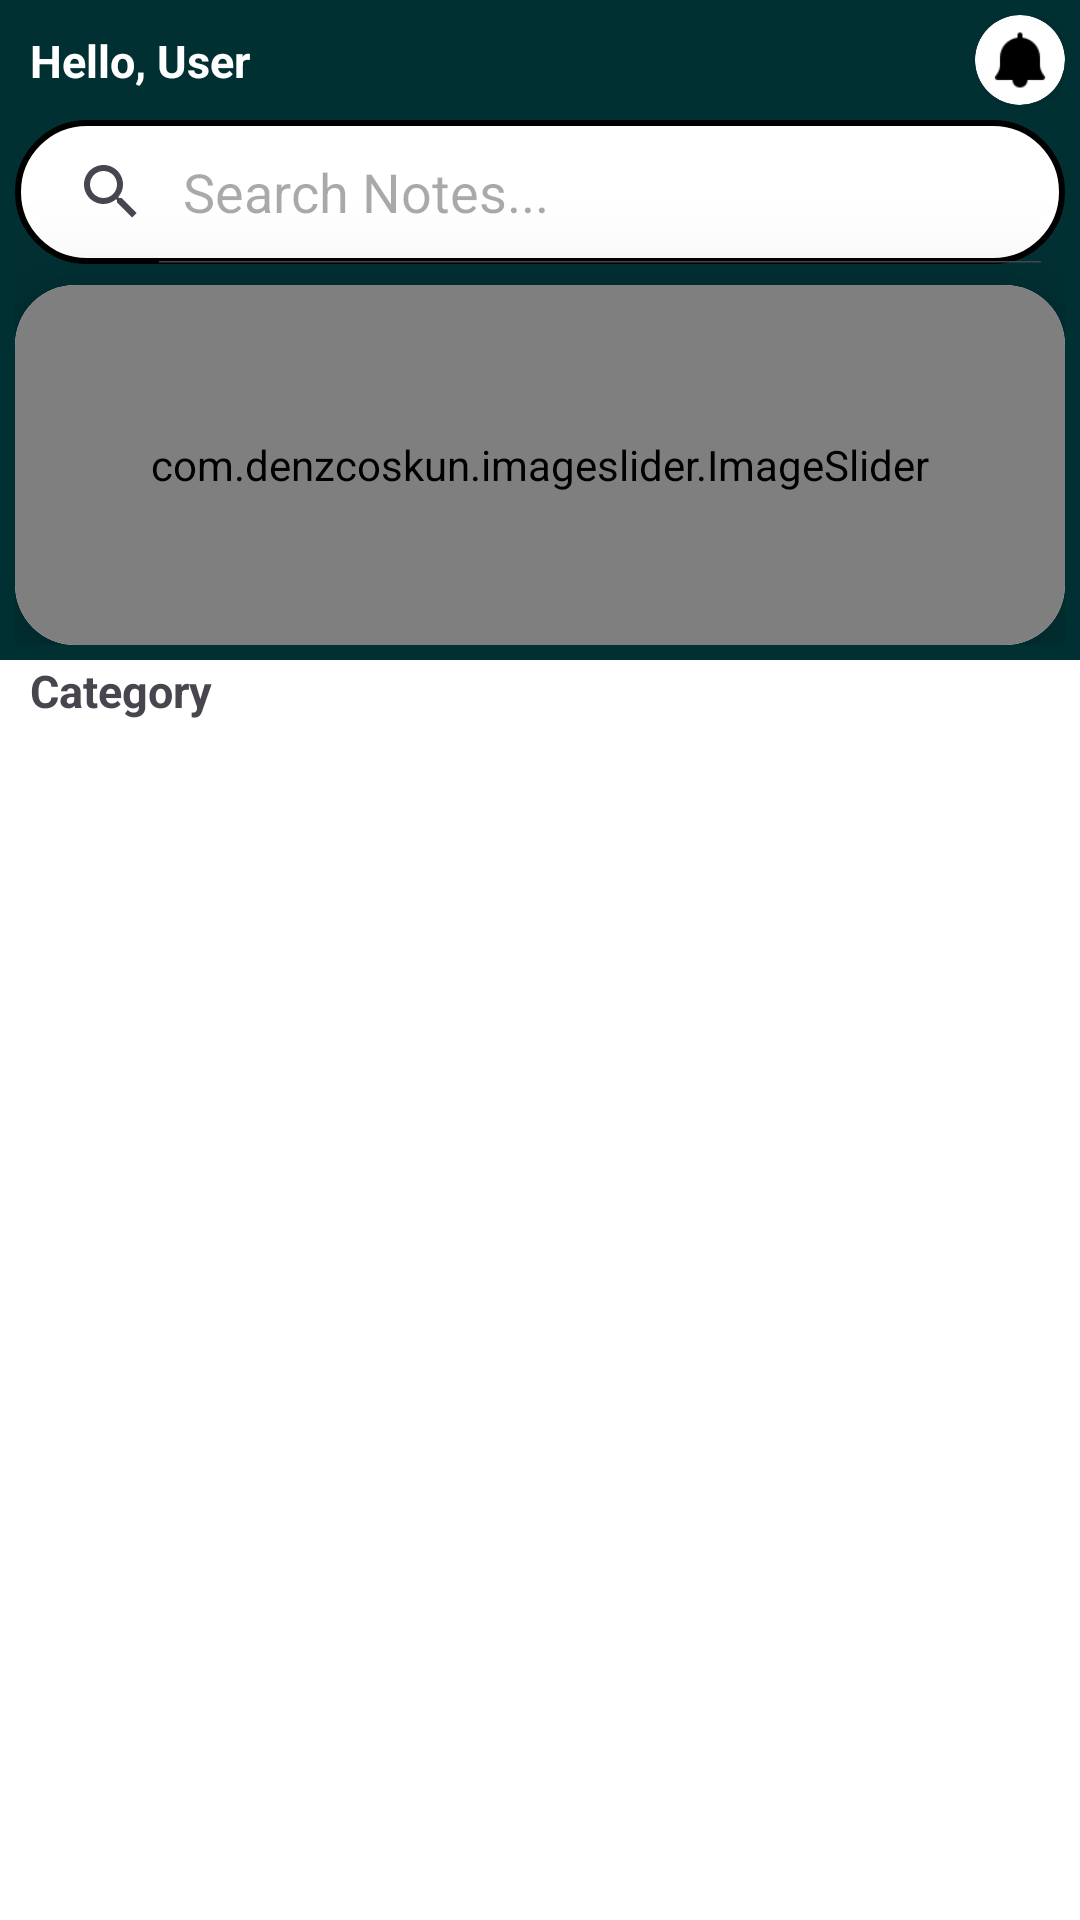

Named icons in this screenshot (1080*1920) and their bounding boxes, (x1, y1, x2, y2):
notification: (995, 32, 1045, 88)
